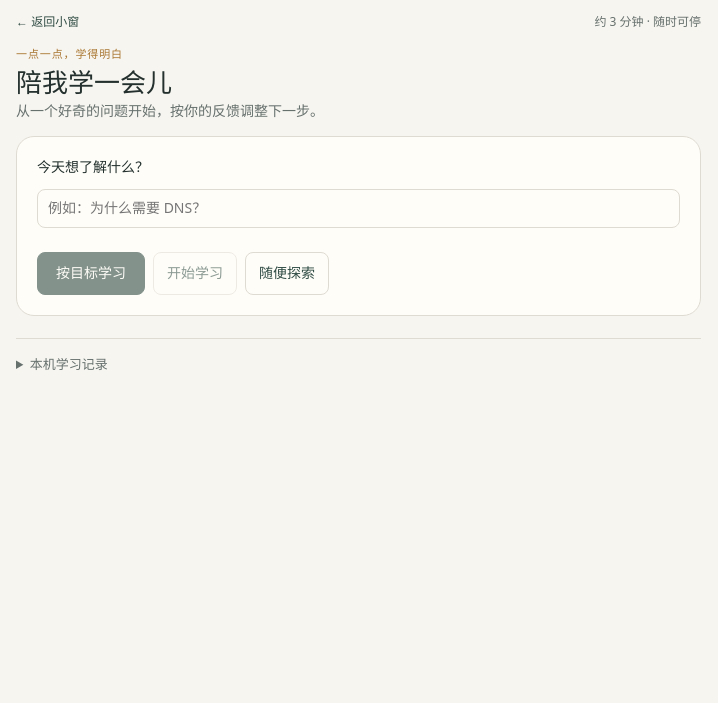
Test: starts a goal plan explicitly and waits for a real checkin before teaching
Type "理解 DNS" into the field labelled "今天想了解什么？" at [358, 208], box [37,189,680,228]
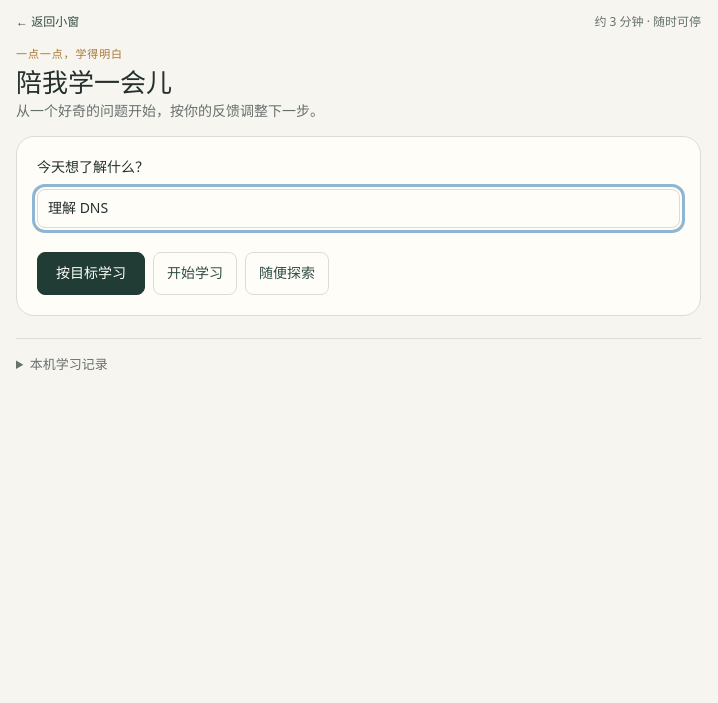
Double-click the button "按目标学习" at [91, 274], box [37,252,145,295]
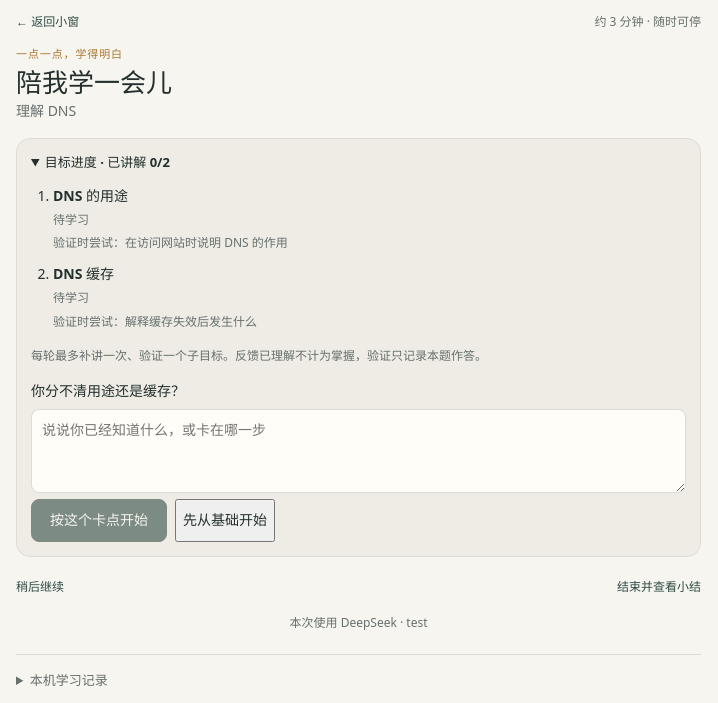
expect the text box labelled "你分不清用途还是缓存？" is shown: met, box [31,410,686,494]
expect the button "按这个卡点开始" is disabled: met, box [31,499,167,542]
